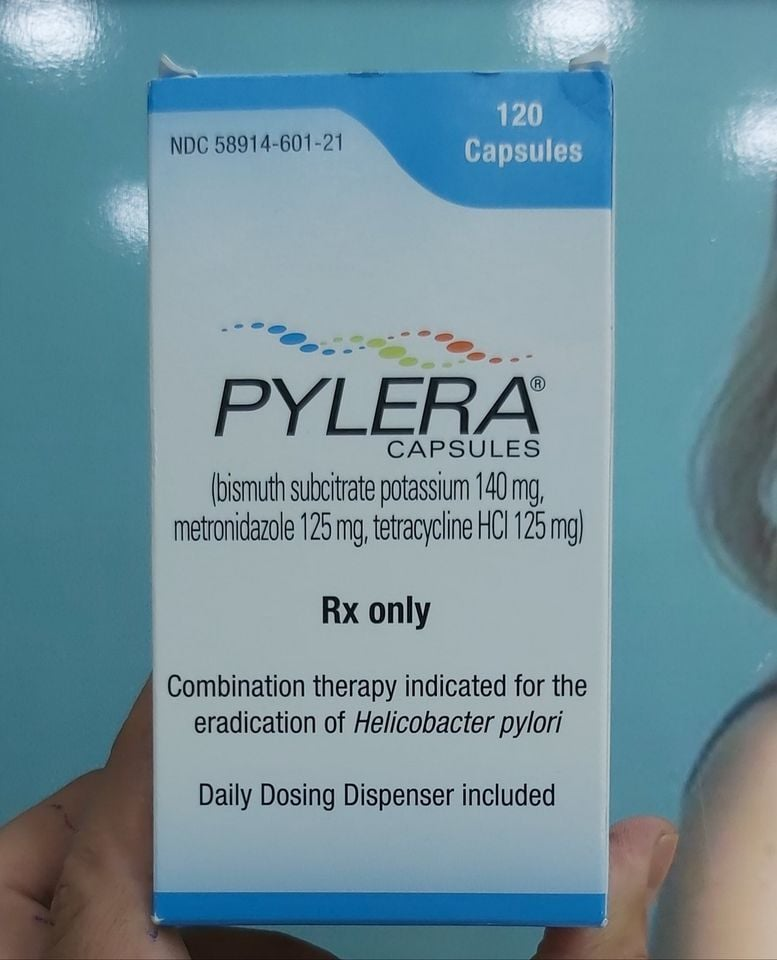Medicine: (138, 57, 620, 938)
